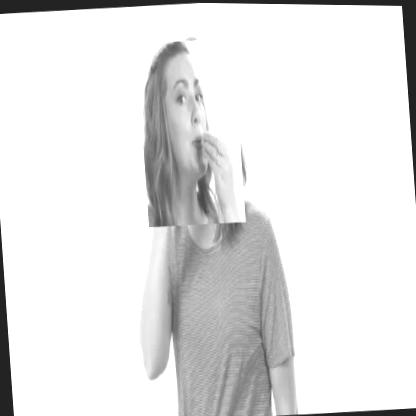Food: (136, 37, 246, 228)
